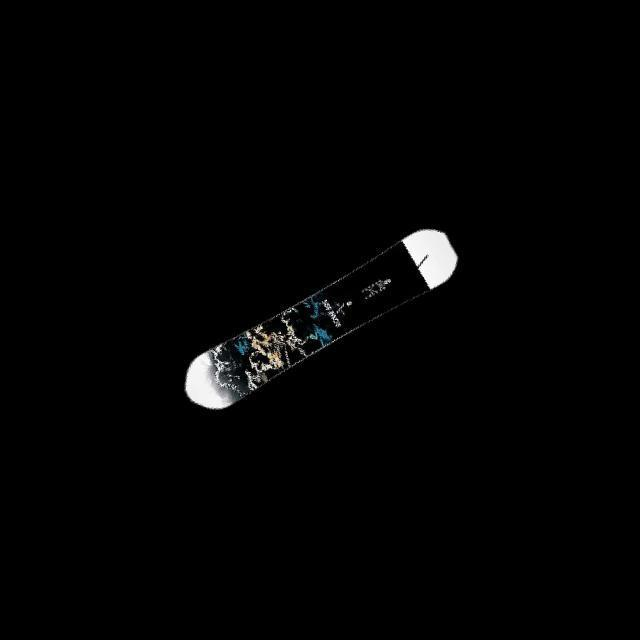Snowboard: (183, 226, 458, 410)
